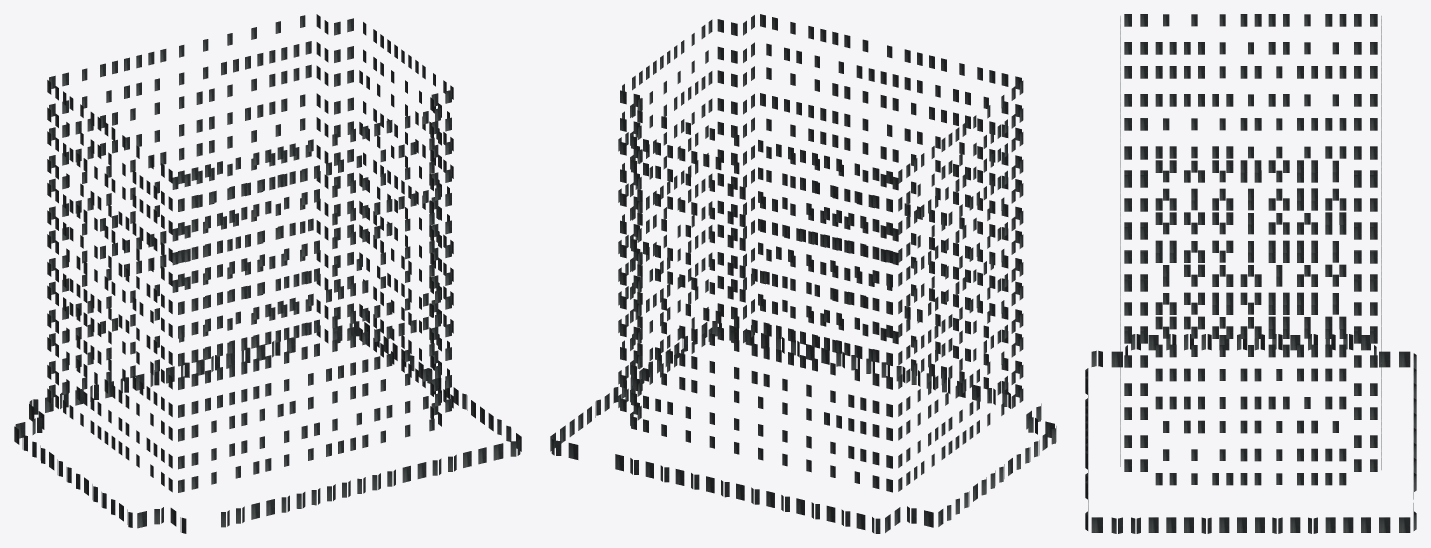
File: TRANS_Building_14stores_BigResidential.obj
3 renders of one model, left to right at view 1: azimuth 30°, elevation 25°; view 2: azimuth 150°, elevation 25°; view 3: azimuth 270°, elevation 25°, orthographic.
Visible parts, largest first — view 1: TRANS_Building_14stores_BigResidential; view 2: TRANS_Building_14stores_BigResidential; view 3: TRANS_Building_14stores_BigResidential.
Boxes of the visible parts, x1=… form: TRANS_Building_14stores_BigResidential: x1=14, y1=14, x2=521, y2=533; TRANS_Building_14stores_BigResidential: x1=550, y1=14, x2=1056, y2=533; TRANS_Building_14stores_BigResidential: x1=1085, y1=14, x2=1416, y2=533.
Size of the model in its own units: 16.22 by 14.51 by 12.29.
